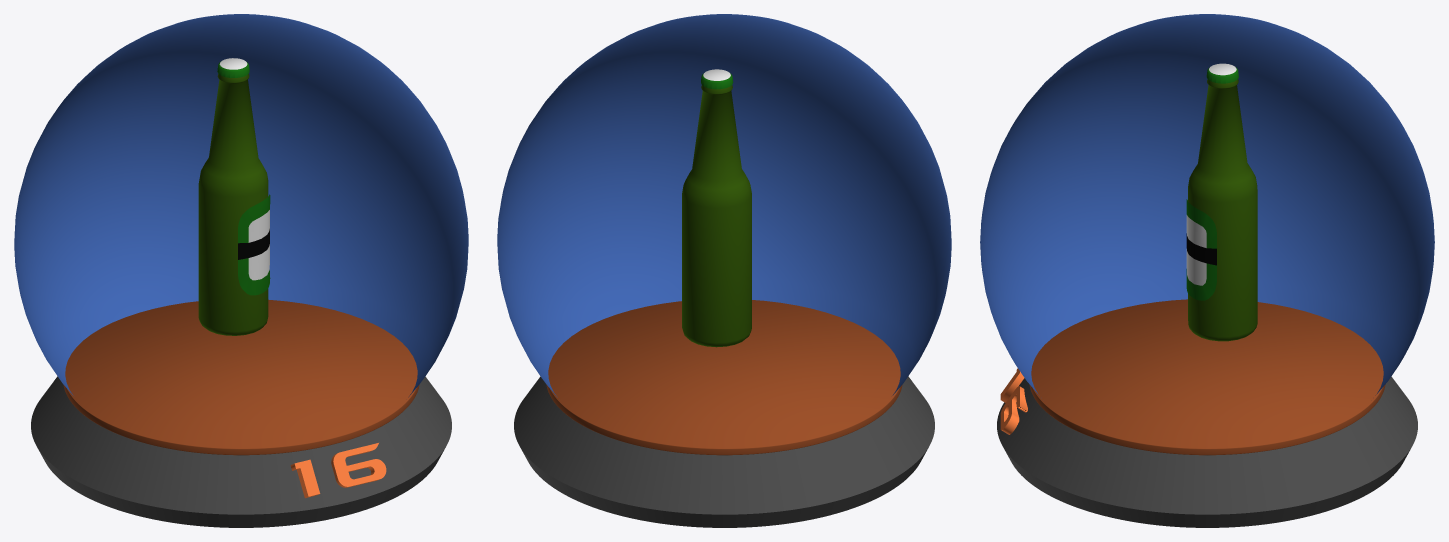
The model's file is Curio_16.glb.
The picture shows the model from 3 angles, left to right: view 1: azimuth 30°, elevation 25°; view 2: azimuth 150°, elevation 25°; view 3: azimuth 270°, elevation 25°; orthographic projection.
Visible parts, largest first — view 1: Sphere.053, Sphere.052, Sphere.051, Heineken_bottle_02.001, Text.021; view 2: Sphere.053, Sphere.052, Sphere.051, Heineken_bottle_02.001; view 3: Sphere.053, Sphere.052, Sphere.051, Heineken_bottle_02.001, Text.021.
Boxes of the visible parts, bbox=[...] form: Sphere.053: bbox=[14, 14, 468, 397]; Sphere.052: bbox=[63, 299, 419, 455]; Sphere.051: bbox=[31, 376, 451, 527]; Heineken_bottle_02.001: bbox=[198, 58, 270, 335]; Text.021: bbox=[290, 443, 386, 498]; Sphere.053: bbox=[497, 14, 951, 397]; Sphere.052: bbox=[546, 300, 902, 455]; Sphere.051: bbox=[514, 376, 934, 527]; Heineken_bottle_02.001: bbox=[682, 69, 751, 347]; Sphere.053: bbox=[980, 14, 1434, 395]; Sphere.052: bbox=[1029, 299, 1385, 455]; Sphere.051: bbox=[997, 376, 1417, 527]; Heineken_bottle_02.001: bbox=[1186, 63, 1257, 341]; Text.021: bbox=[1000, 368, 1027, 434].
Bounding box in the file's own units: 4.66 × 4.62 × 4.66.
